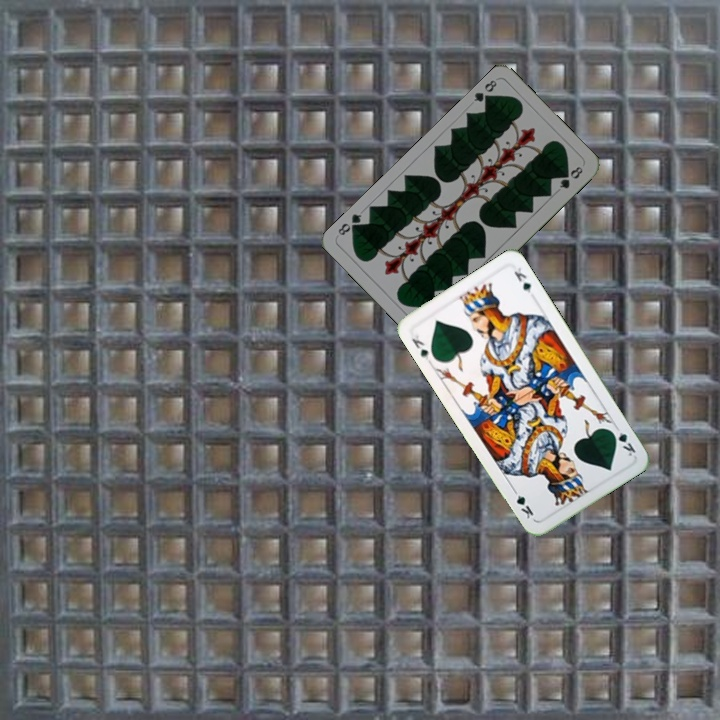G8: (469, 76, 500, 107)
GK: (607, 422, 638, 459), (407, 331, 431, 362)
